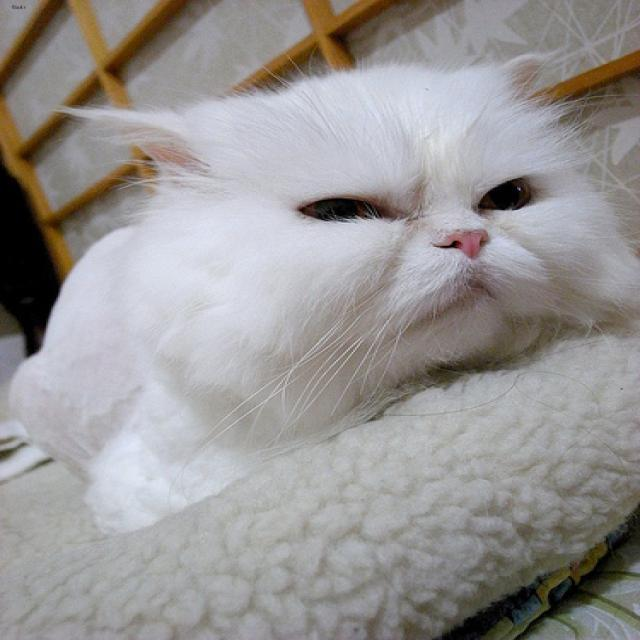Persian: (55, 53, 640, 357)
